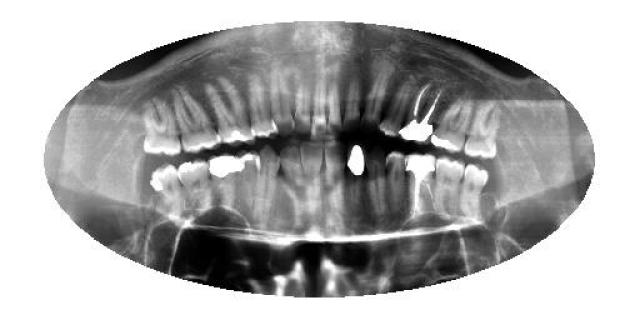Fillings: (204, 76, 254, 145), (431, 97, 470, 155), (208, 154, 238, 211), (150, 162, 181, 214), (238, 150, 262, 216), (178, 160, 210, 209), (344, 144, 366, 214)
Implant: (399, 82, 446, 144), (405, 151, 435, 220)
